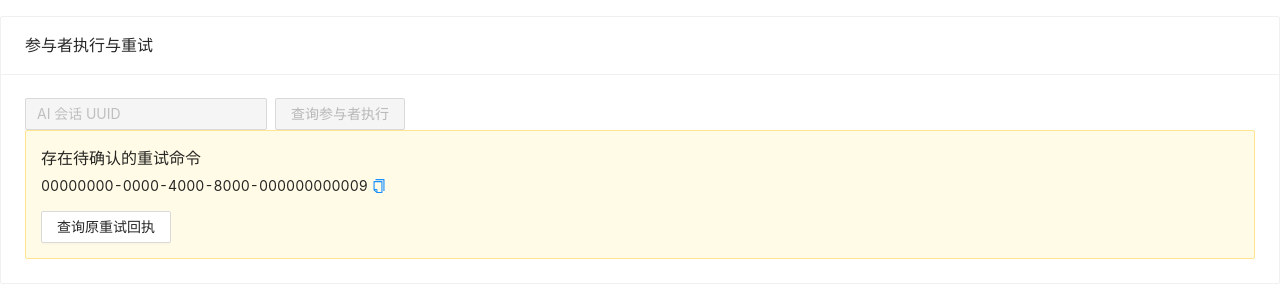
Test: clears intent only for the matching persisted rejection
The width and height of the screenshot is (1280, 301).
Expected: the text "查询原重试回执" is shown, top-left (57, 216), bottom-right (155, 238)
Click the button "查询原重试回执" at (106,227), box top-left (41, 211), bottom-right (171, 243)
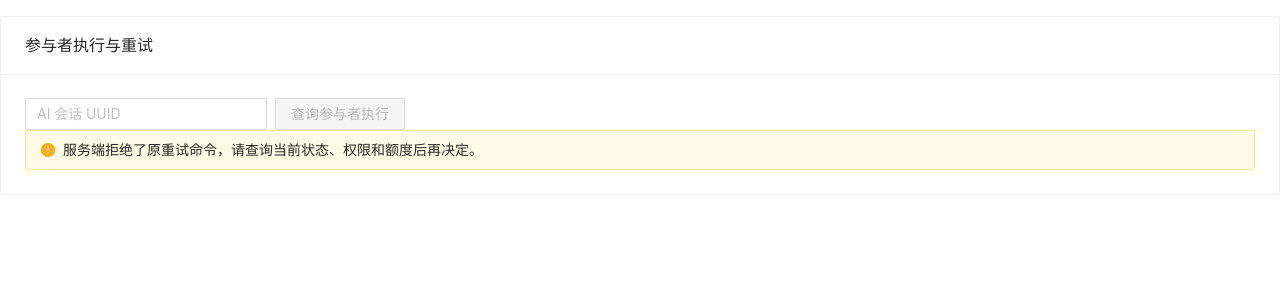
Expected: the text "服务端拒绝了原重试命令，请查询当前状态、权限和额度后再决定。" is shown, top-left (63, 141), bottom-right (483, 158)
